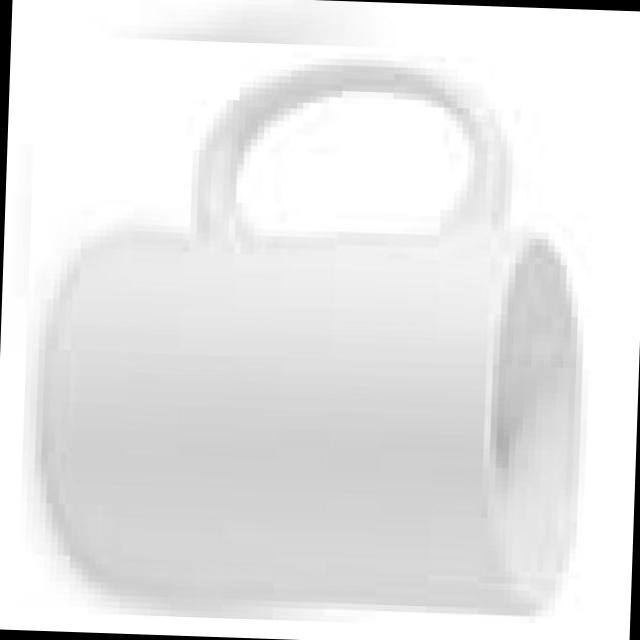Coffee Mug: (27, 48, 596, 622)
